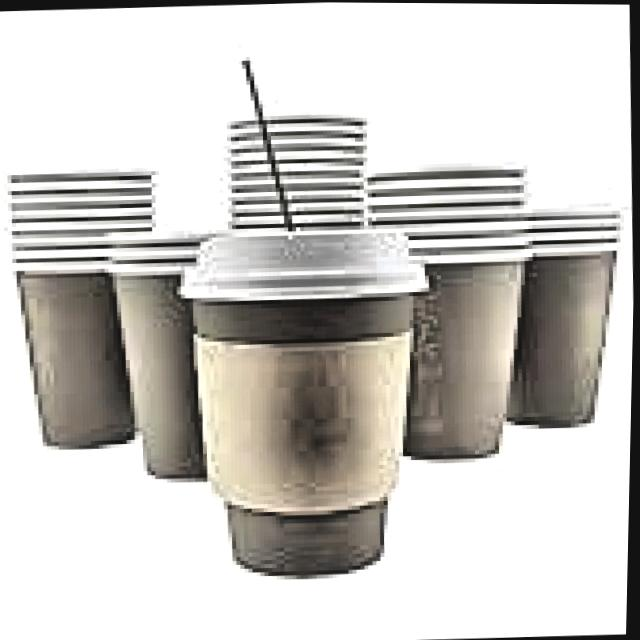Cup: (176, 218, 418, 582), (0, 157, 181, 463), (104, 221, 293, 497), (360, 210, 535, 469), (498, 196, 634, 434)
